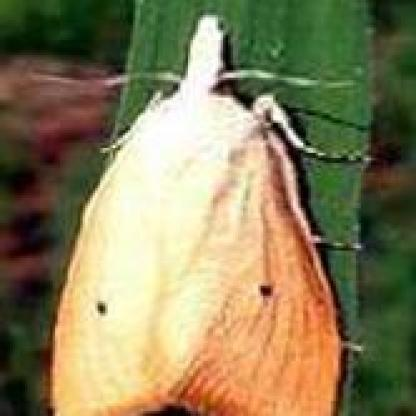stem-borer: (47, 9, 370, 416)
